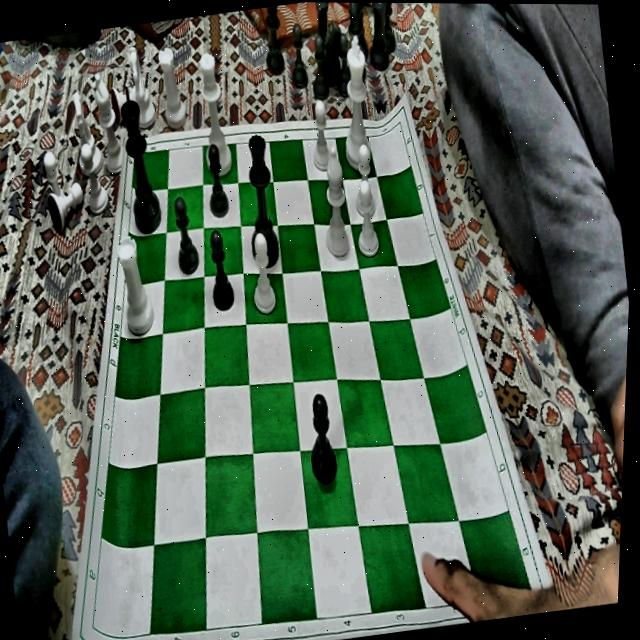BlackKing: (112, 79, 170, 232)
BlackPawn: (300, 391, 342, 488), (202, 226, 238, 313), (168, 194, 203, 276), (200, 141, 233, 218), (282, 20, 311, 90), (304, 34, 334, 100), (329, 31, 355, 96)
BlackQueen: (235, 132, 284, 267)
BlackRook: (361, 3, 392, 69)
WhiteBishop: (312, 144, 355, 258), (88, 69, 131, 176)
WhiteKing: (328, 32, 381, 173)
WhiteKnight: (67, 88, 106, 177), (123, 42, 160, 129)
WhitePawn: (243, 230, 279, 317), (77, 139, 113, 215), (348, 178, 382, 258), (38, 149, 73, 221), (41, 179, 87, 232), (303, 99, 336, 171), (347, 142, 379, 216)
WhiteQueen: (191, 51, 237, 175)
WhiteRook: (110, 232, 159, 337), (152, 44, 191, 132)
